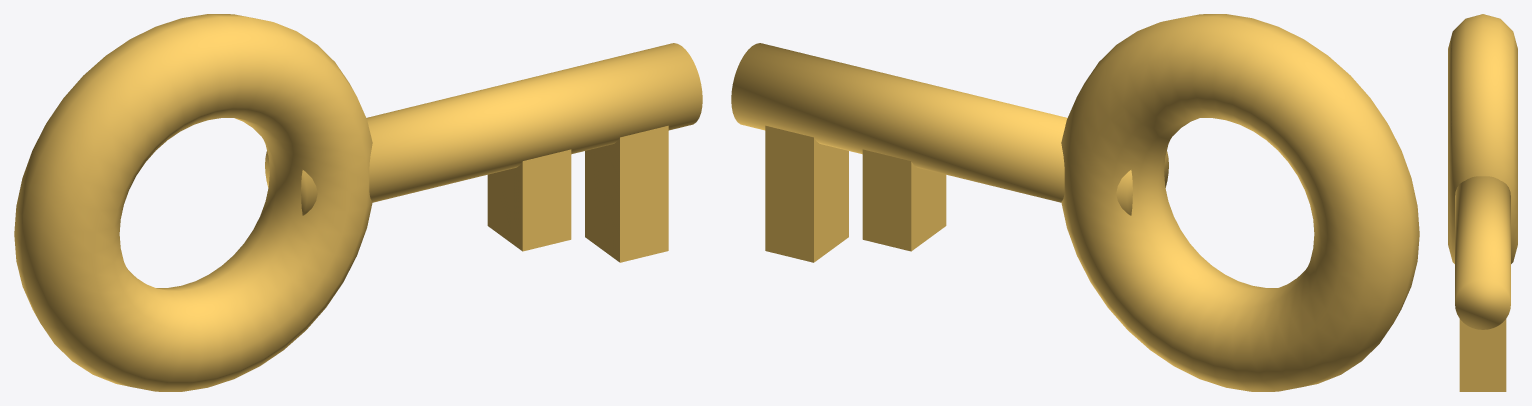
File: key.glb
3 views of the same model, side by side, from view 1: azimuth 30°, elevation 25°; view 2: azimuth 150°, elevation 25°; view 3: azimuth 270°, elevation 25° (orthographic). The views are drawn at different scales.
Visible parts, largest first — view 1: key_Body; view 2: key_Body; view 3: key_Body.
Part boxes in pixels (x1,y1,x2,y2): key_Body: (14, 14, 702, 391); key_Body: (731, 14, 1419, 391); key_Body: (1448, 14, 1517, 391).
Bounding box in the file's own units: 2.17 × 1.14 × 0.3.
